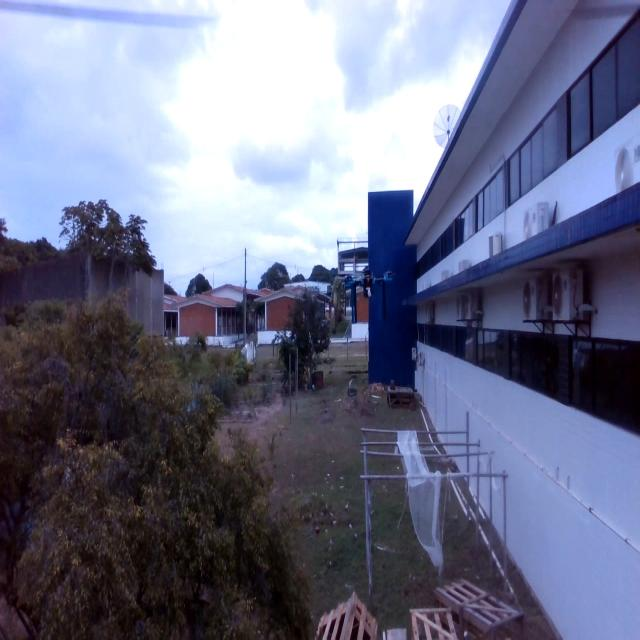-uav-: (326, 256, 404, 342)
